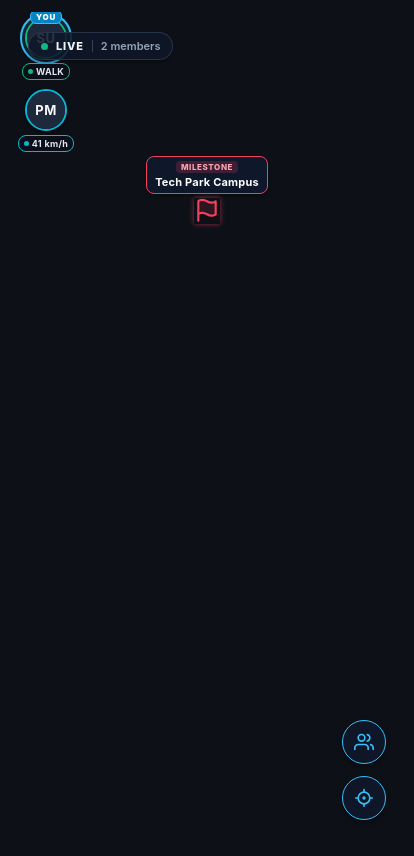
Test case: LocationMap component › opens member detail card when a member marker is tapped and closes on close button
Tap peer member marker
Click the button with test id "member-marker-user_peer" at x=46, y=120, box x1=12 y1=84 x2=80 y2=156
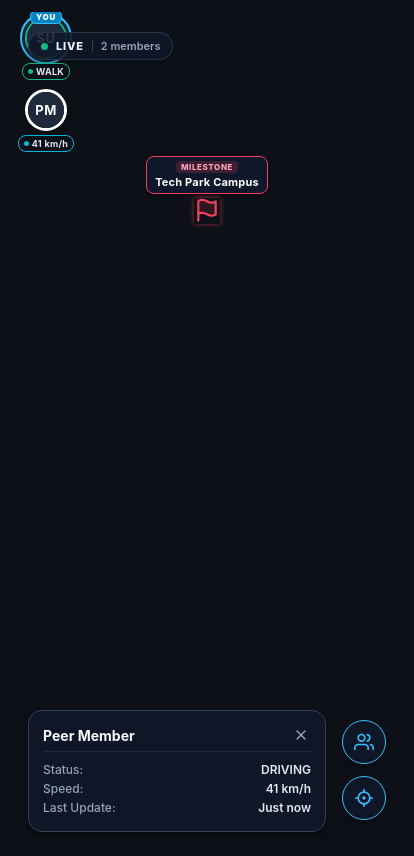
Check: the element with test id "member-detail-card" is shown, box x1=28 y1=710 x2=326 y2=832
Check: the text "Peer Member" is shown, box x1=43 y1=726 x2=135 y2=744
Check: the text "DRIVING" is shown, box x1=261 y1=762 x2=311 y2=777
Close the detail card
Click the button with test id "close-member-card" at x=301, y=735, box x1=291 y1=725 x2=311 y2=745
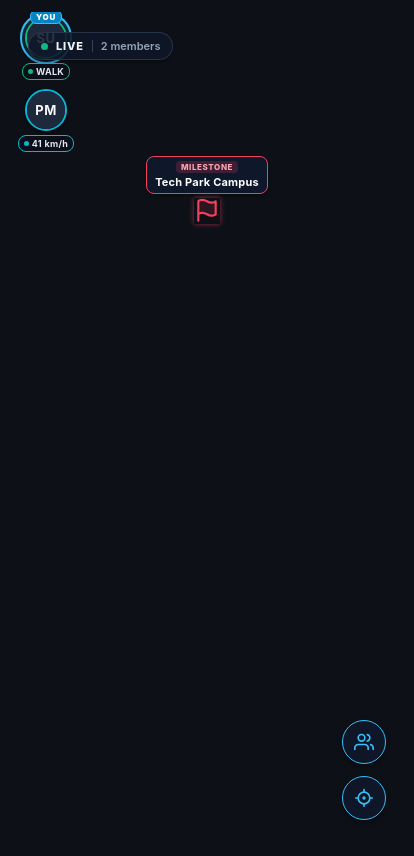
Check: the element with test id "member-detail-card" is gone
